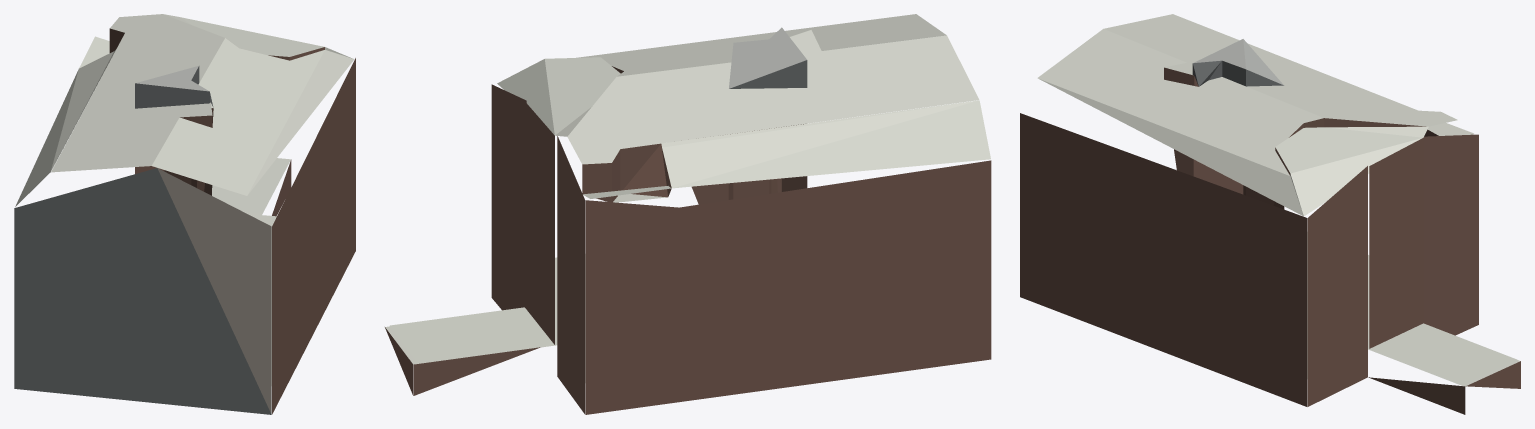
3 renders of one model, left to right at view 1: azimuth 30°, elevation 25°; view 2: azimuth 150°, elevation 25°; view 3: azimuth 270°, elevation 25°, orthographic. The views are drawn at different scales.
Visible parts, largest first — view 1: lod2; view 2: lod2; view 3: lod2.
Boxes of the visible parts, bbox=[...] form: lod2: bbox=[14, 14, 355, 414]; lod2: bbox=[385, 14, 991, 414]; lod2: bbox=[1020, 14, 1520, 414].
Size of the model in its own units: 30.94 by 18.15 by 33.2.
